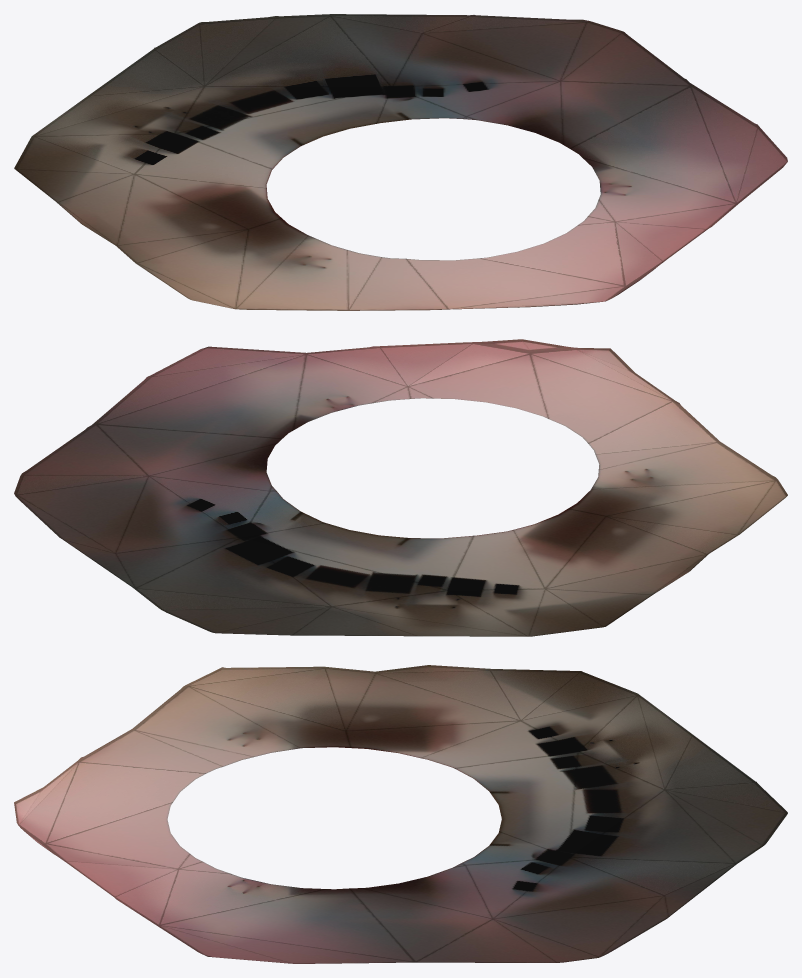
The model's file is structure_floor.glb.
The picture shows the model from 3 angles, top to bottom: view 1: azimuth 30°, elevation 25°; view 2: azimuth 150°, elevation 25°; view 3: azimuth 270°, elevation 25°; orthographic projection.
Parts seen in each view (by area): view 1: roomfloor.001; view 2: roomfloor.001; view 3: roomfloor.001.
Part boxes in pixels (box(x1,y1,x2,y2)): roomfloor.001: box(14, 14, 787, 310); roomfloor.001: box(14, 339, 787, 636); roomfloor.001: box(14, 665, 787, 963).
Size of the model in its own units: 12.42 by 0.196 by 13.66.
1 material, 1 textured.
